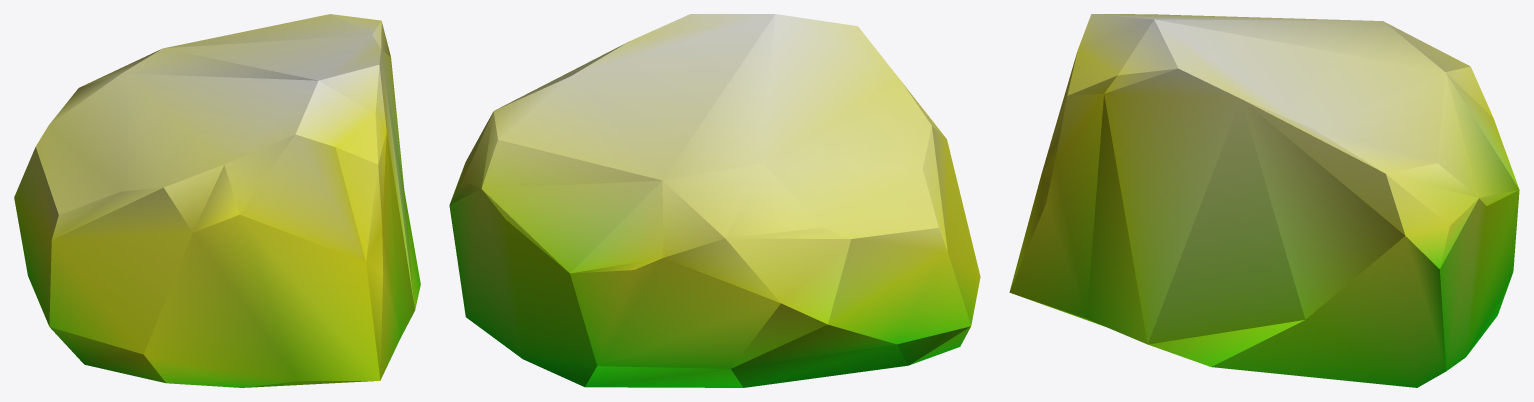
Rendered from rock_solo_05_LOD2.fbx.
3 renders of one model, left to right at view 1: azimuth 30°, elevation 25°; view 2: azimuth 150°, elevation 25°; view 3: azimuth 270°, elevation 25°, orthographic. The views are drawn at different scales.
Parts seen in each view (by area): view 1: LOD2; view 2: LOD2; view 3: LOD2.
Boxes of the visible parts, x1=… form: LOD2: x1=14, y1=14, x2=420, y2=387; LOD2: x1=449, y1=14, x2=980, y2=387; LOD2: x1=1009, y1=14, x2=1519, y2=387.
Bounding box in the file's own units: 734 × 433 × 709.
